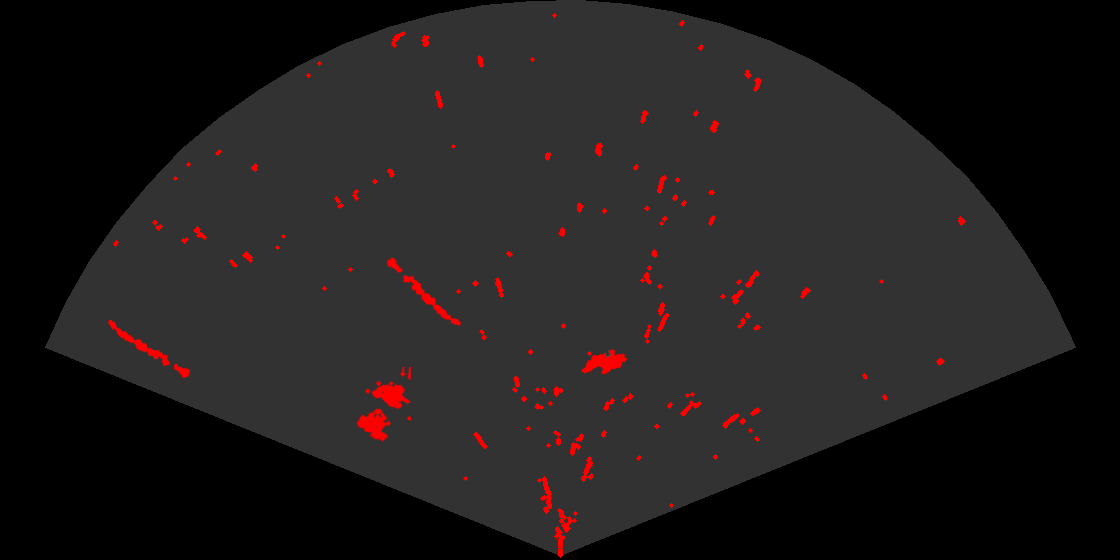AUV: (580, 348, 629, 376)
cage: (355, 367, 411, 444)
chain: (385, 256, 463, 327), (106, 318, 192, 379)
